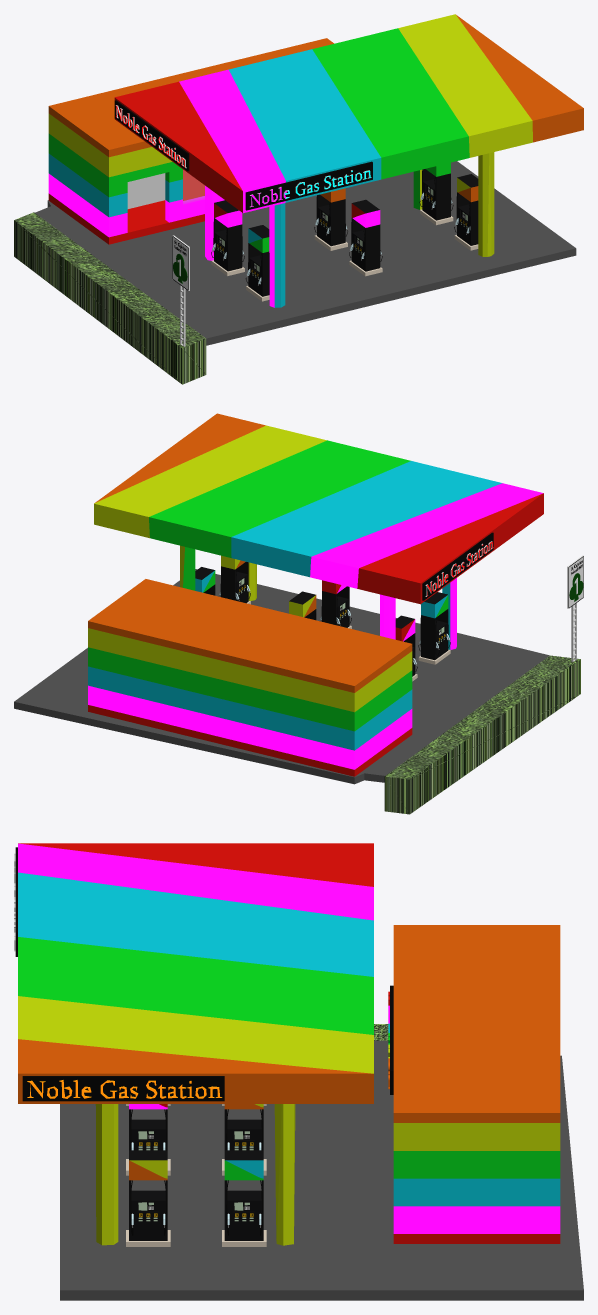
File: Gas Station.glb
3 views of the same model, one above another, from view 1: azimuth 30°, elevation 25°; view 2: azimuth 150°, elevation 25°; view 3: azimuth 270°, elevation 25° (orthographic). The views are drawn at different scales.
Visible parts, largest first — view 1: Roof, Ground, Undeveloped Land.001, Walls, Building Roof, Pillars, Floor, Sign 2, Gas Pump.003, Gas Pump, Gas Pump.002, Gas Pump.004 (+6 smaller); view 2: Roof, Walls, Building Roof, Ground, Undeveloped Land.001, Floor, Pillars, Gas Pump.001, Sign 1, Gas Pump.003, Gas Pump.005, Gas Pump (+2 smaller); view 3: Roof, Ground, Building Roof, Walls, Pillars, Sign 3, Gas Pump.004, Gas Pump.005, Gas Pump.002, Floor, Gas Pump.003, Sign 4.
Part boxes in pixels (left/top/right/bottom): Roof: left=114, top=14, right=583, bottom=213; Ground: left=35, top=161, right=576, bottom=345; Undeveloped Land.001: left=14, top=212, right=206, bottom=384; Walls: left=48, top=113, right=224, bottom=237; Building Roof: left=48, top=38, right=333, bottom=157; Pillars: left=205, top=152, right=494, bottom=307; Floor: left=48, top=169, right=204, bottom=244; Sign 2: left=245, top=161, right=372, bottom=210; Gas Pump.003: left=349, top=199, right=382, bottom=276; Gas Pump: left=211, top=200, right=244, bottom=275; Gas Pump.002: left=314, top=188, right=347, bottom=250; Gas Pump.004: left=419, top=162, right=453, bottom=225; Roof: left=94, top=413, right=543, bottom=604; Walls: left=88, top=628, right=412, bottom=769; Building Roof: left=88, top=579, right=412, bottom=692; Ground: left=14, top=569, right=549, bottom=784; Undeveloped Land.001: left=384, top=655, right=580, bottom=814; Floor: left=88, top=705, right=412, bottom=776; Pillars: left=180, top=545, right=456, bottom=649; Gas Pump.001: left=418, top=592, right=450, bottom=664; Sign 1: left=422, top=532, right=493, bottom=600; Gas Pump.003: left=320, top=580, right=351, bottom=628; Gas Pump.005: left=219, top=555, right=250, bottom=604; Gas Pump: left=395, top=615, right=417, bottom=681; Roof: left=18, top=843, right=373, bottom=1103; Ground: left=60, top=1040, right=583, bottom=1300; Building Roof: left=393, top=925, right=560, bottom=1122; Walls: left=393, top=1123, right=560, bottom=1233; Pillars: left=95, top=1104, right=295, bottom=1245; Sign 3: left=22, top=1076, right=224, bottom=1101; Gas Pump.004: left=222, top=1150, right=266, bottom=1246; Gas Pump.005: left=126, top=1150, right=170, bottom=1246; Gas Pump.002: left=222, top=1104, right=266, bottom=1175; Floor: left=393, top=1234, right=560, bottom=1243; Gas Pump.003: left=126, top=1104, right=170, bottom=1175; Sign 4: left=388, top=985, right=393, bottom=1094.
Size of what is drawn, in the model's own units: 17.44 by 7.92 by 15.62.
Materials: 62 (2 with a texture image).
